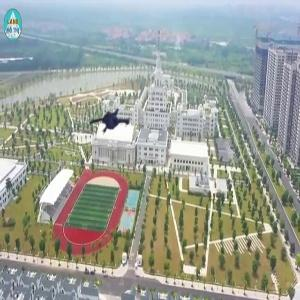drone: (87, 92, 142, 147)
